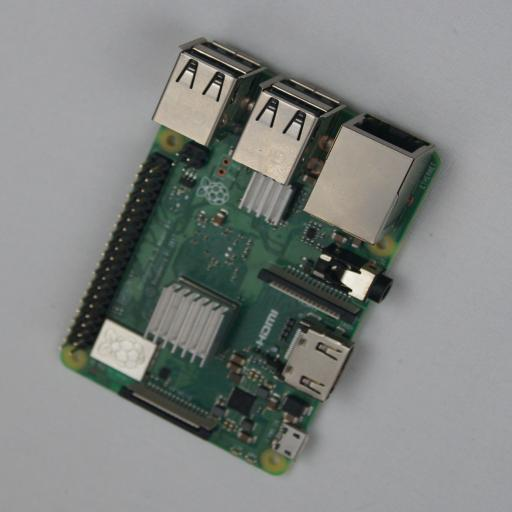Raspberry Pi 3 B-: (62, 38, 443, 474)
